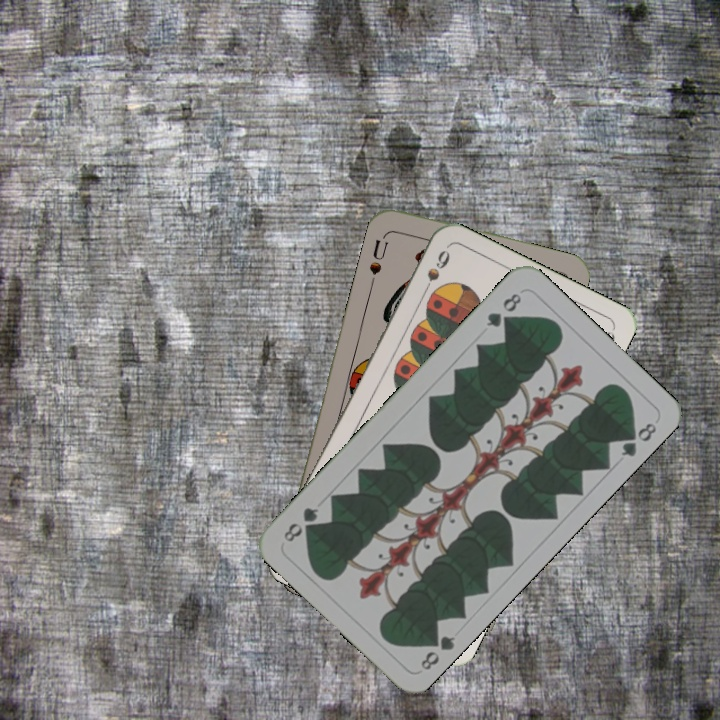G8: (416, 628, 458, 673), (482, 289, 525, 330)
S9: (417, 246, 453, 300)
SU: (365, 229, 391, 278)
